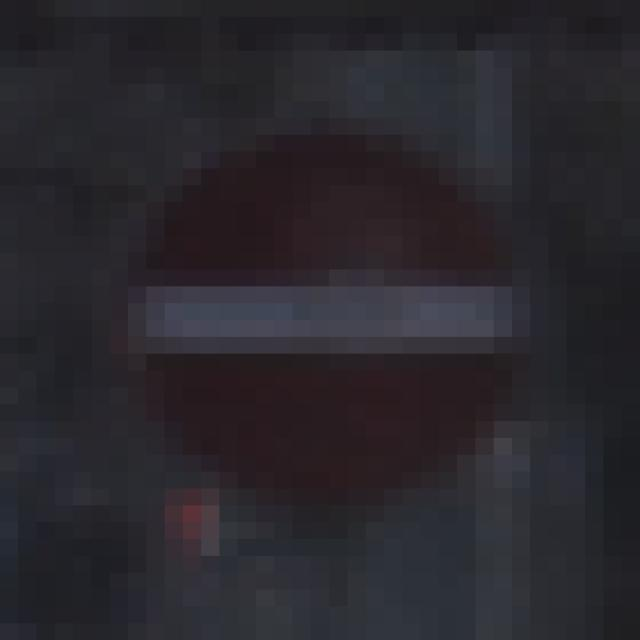No Entry: (93, 102, 550, 557)
